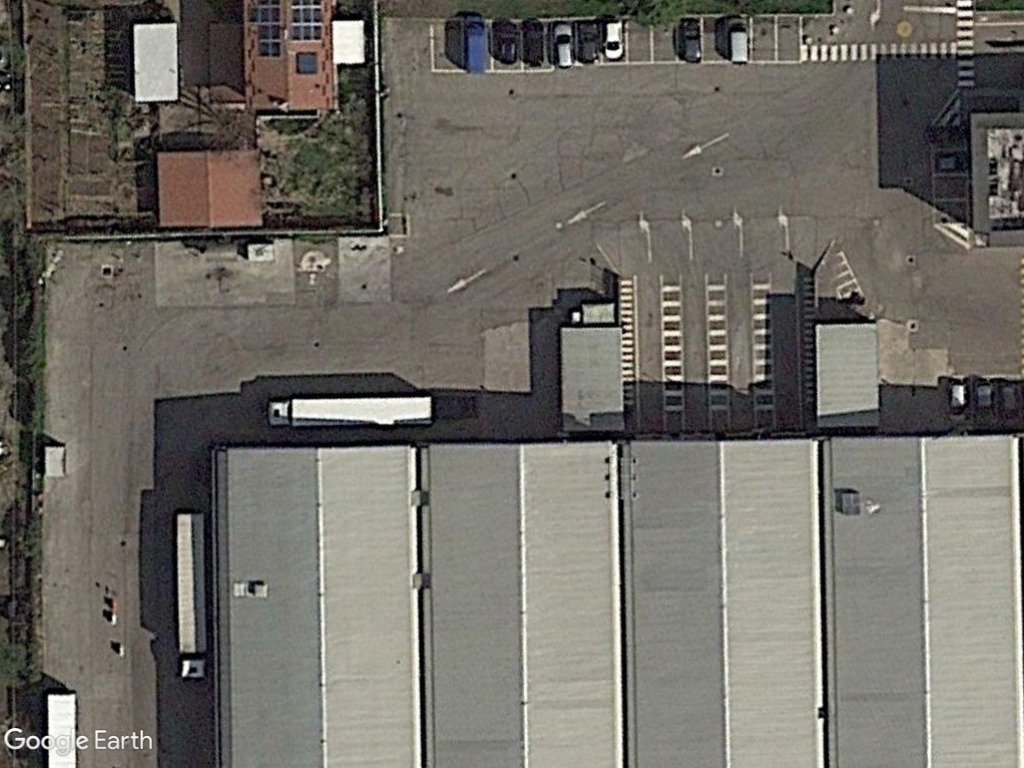car: (679, 15, 709, 70), (597, 14, 630, 62), (574, 15, 602, 66), (550, 20, 578, 70)
longvehicle: (171, 507, 217, 686), (263, 392, 443, 434)
van: (463, 10, 493, 82), (723, 9, 756, 70)
